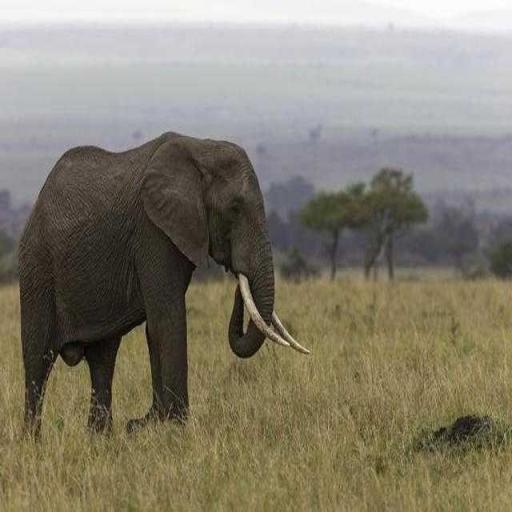Elephant: (16, 130, 310, 444)
